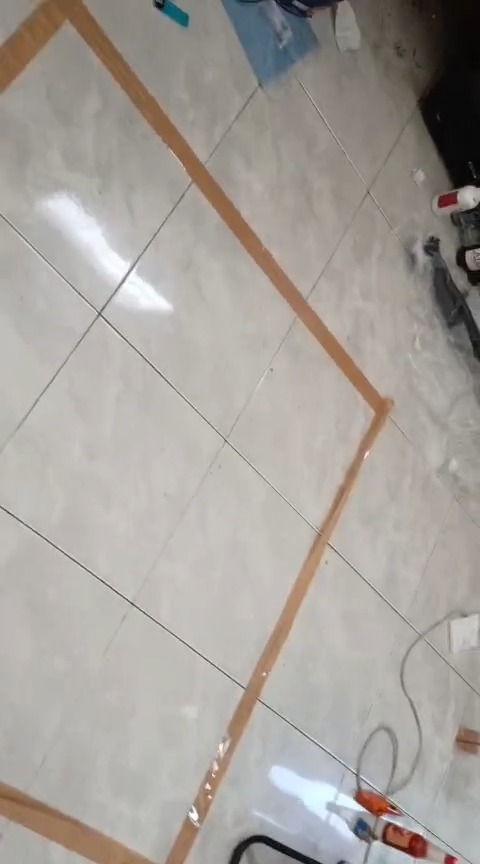floor marking: (0, 0, 391, 863), (0, 784, 151, 863)
